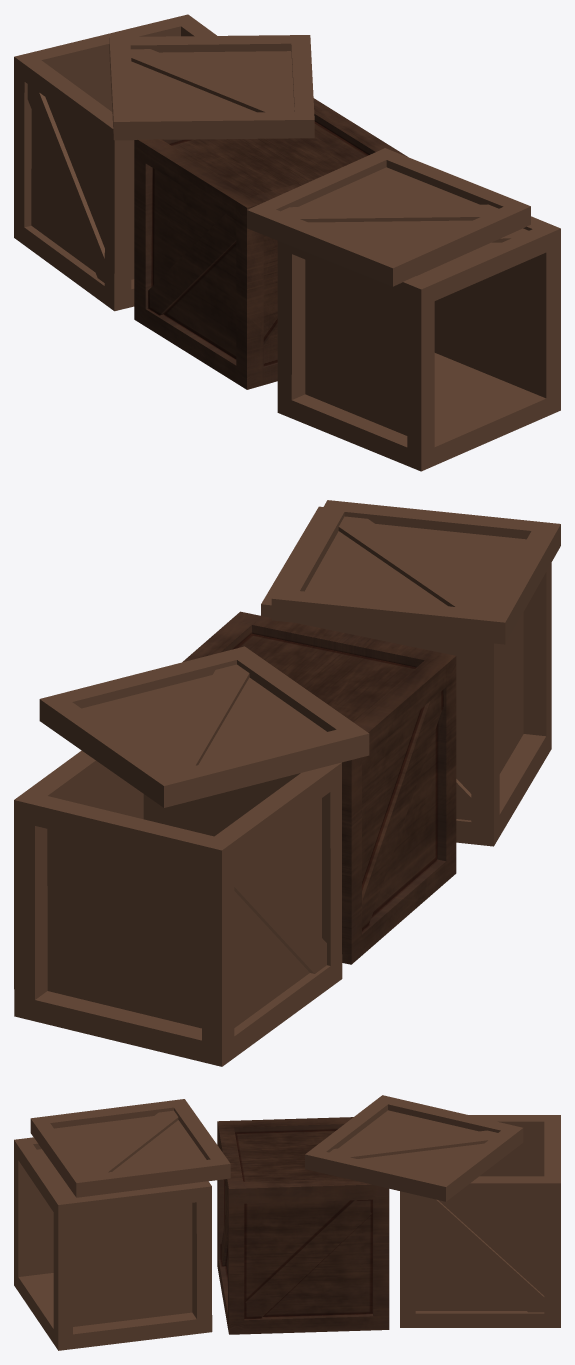
File: Box3Pack1.fbx
The picture shows the model from 3 angles, top to bottom: view 1: azimuth 30°, elevation 25°; view 2: azimuth 150°, elevation 25°; view 3: azimuth 270°, elevation 25°; orthographic projection. The views are drawn at different scales.
Visible parts, largest first — view 1: Woodbox_Offen.001, Example.001, Woodbox_Offen.003, Woodbox_Deckel.003, Woodbox_Deckel.001; view 2: Woodbox_Offen.003, Example.001, Woodbox_Deckel.001, Woodbox_Deckel.003, Woodbox_Offen.001; view 3: Example.001, Woodbox_Offen.001, Woodbox_Offen.003, Woodbox_Deckel.001, Woodbox_Deckel.003.
Boxes of the visible parts, bbox=[...] form: Woodbox_Offen.001: bbox=[277, 216, 560, 471]; Example.001: bbox=[134, 98, 407, 389]; Woodbox_Offen.003: bbox=[14, 14, 216, 311]; Woodbox_Deckel.003: bbox=[247, 148, 530, 286]; Woodbox_Deckel.001: bbox=[109, 35, 314, 140]; Woodbox_Offen.003: bbox=[14, 750, 342, 1066]; Example.001: bbox=[182, 611, 456, 964]; Woodbox_Deckel.001: bbox=[39, 646, 369, 807]; Woodbox_Deckel.003: bbox=[271, 500, 560, 644]; Woodbox_Offen.001: bbox=[261, 506, 551, 846]; Example.001: bbox=[217, 1117, 389, 1334]; Woodbox_Offen.001: bbox=[14, 1137, 212, 1350]; Woodbox_Offen.003: bbox=[400, 1115, 560, 1327]; Woodbox_Deckel.001: bbox=[305, 1095, 523, 1201]; Woodbox_Deckel.003: bbox=[30, 1099, 230, 1197].
Bounding box in the file's own units: 281 × 220 × 680.
